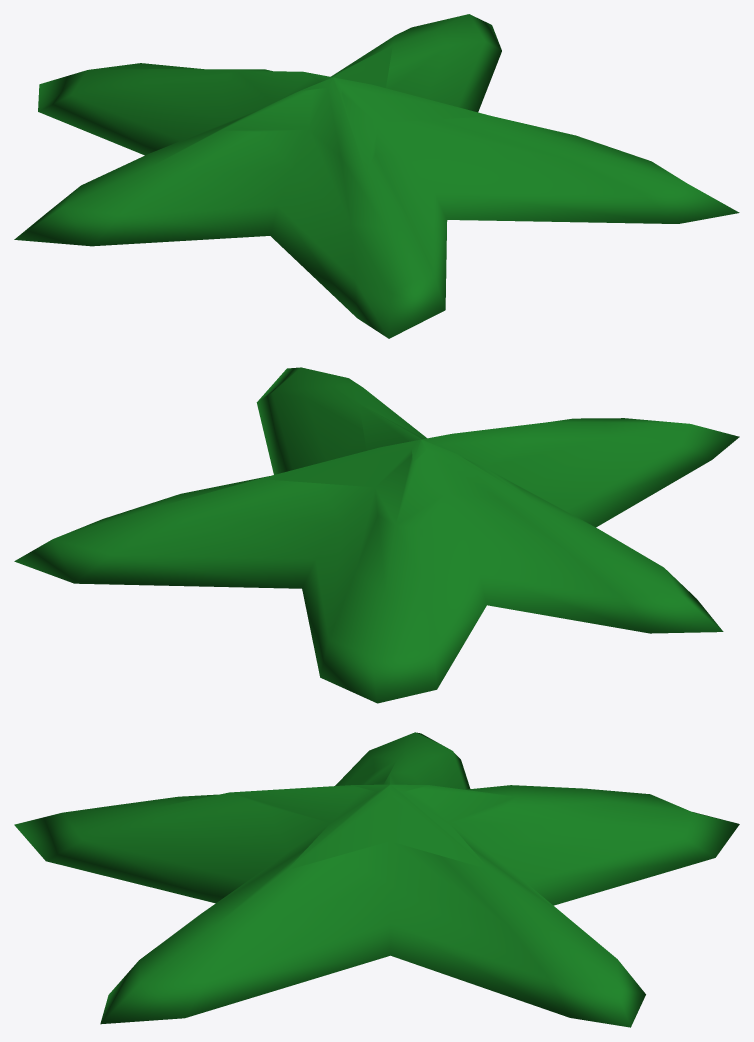
File: G_StarfishC.gltf
3 renders of one model, top to bottom at view 1: azimuth 30°, elevation 25°; view 2: azimuth 150°, elevation 25°; view 3: azimuth 270°, elevation 25°, orthographic. The views are drawn at different scales.
Visible parts, largest first — view 1: Cylinder; view 2: Cylinder; view 3: Cylinder.
Part boxes in pixels (x1=…): Cylinder: x1=14, y1=14, x2=739, y2=338; Cylinder: x1=14, y1=367, x2=739, y2=703; Cylinder: x1=14, y1=732, x2=739, y2=1027.
Bounding box in the file's own units: 0.7585 × 0.1239 × 0.7908.
